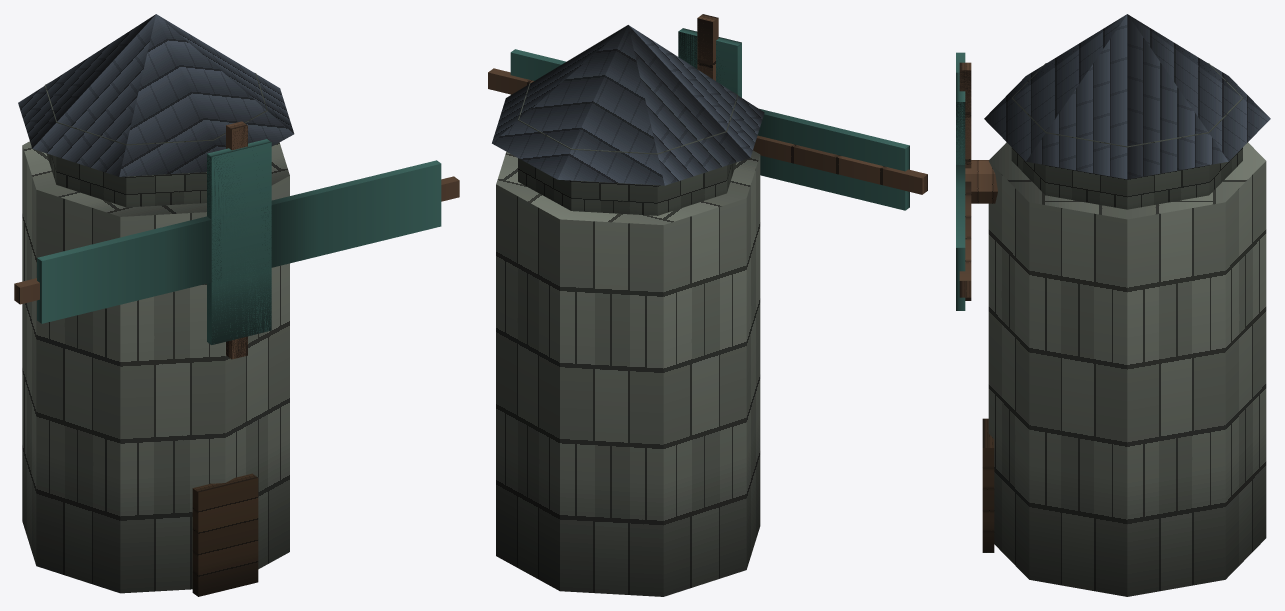
Rendered from windmill.glb.
3 views of the same model, side by side, from view 1: azimuth 30°, elevation 25°; view 2: azimuth 150°, elevation 25°; view 3: azimuth 270°, elevation 25° (orthographic).
Visible parts, largest first — view 1: windmill; view 2: windmill; view 3: windmill.
Boxes of the visible parts, box(x1,y1,x2,y2) form: windmill: box(14, 14, 459, 596); windmill: box(488, 14, 927, 596); windmill: box(956, 14, 1270, 596).
Bounding box in the file's own units: 2.2 × 2.5 × 1.36.
1 material, 1 textured.
